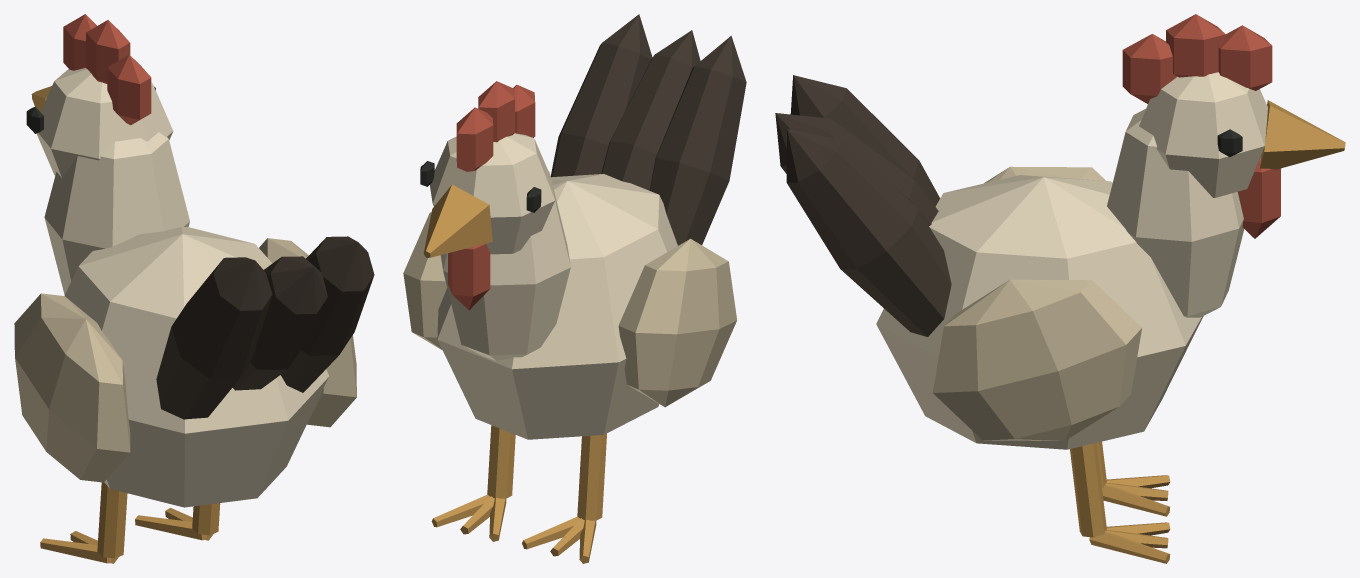
Rendered from Chicken.fbx.
3 renders of one model, left to right at view 1: azimuth 30°, elevation 25°; view 2: azimuth 150°, elevation 25°; view 3: azimuth 270°, elevation 25°, orthographic. The views are drawn at different scales.
Visible parts, largest first — view 1: FA_Chicken; view 2: FA_Chicken; view 3: FA_Chicken.
Part boxes in pixels (left/top/right/bottom): FA_Chicken: left=14, top=14, right=374, bottom=563; FA_Chicken: left=403, top=14, right=746, bottom=563; FA_Chicken: left=775, top=14, right=1345, bottom=563.
Size of the model in its own units: 1.12 by 1.81 by 1.84.
